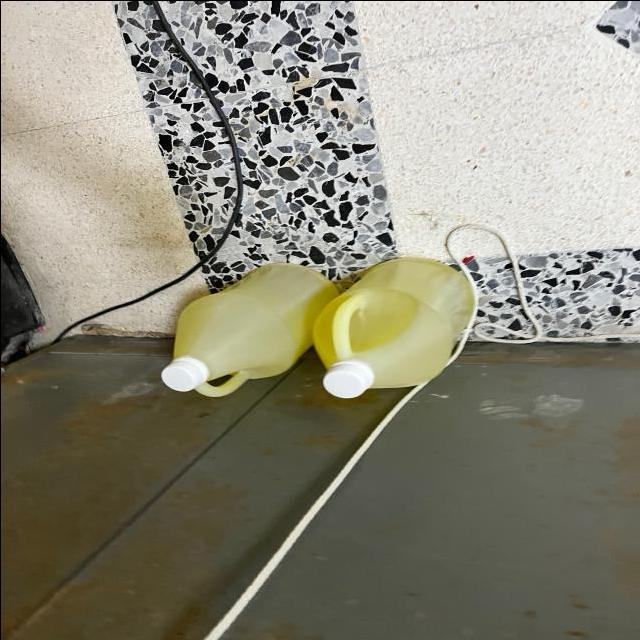HDPE Plastic: (316, 244, 477, 403), (165, 269, 327, 402)
